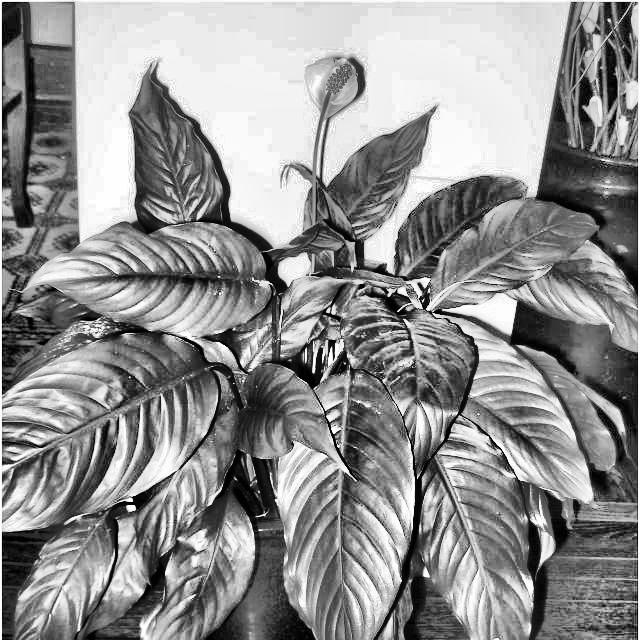plants: (0, 60, 640, 640), (508, 354, 635, 520)
